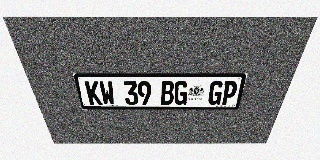3: (123, 81, 138, 105)
9: (137, 81, 151, 105)
B: (161, 81, 174, 105)
G: (207, 81, 225, 105), (174, 81, 188, 105)
K: (84, 81, 103, 105)
P: (220, 81, 239, 105)
W: (98, 81, 116, 105)
